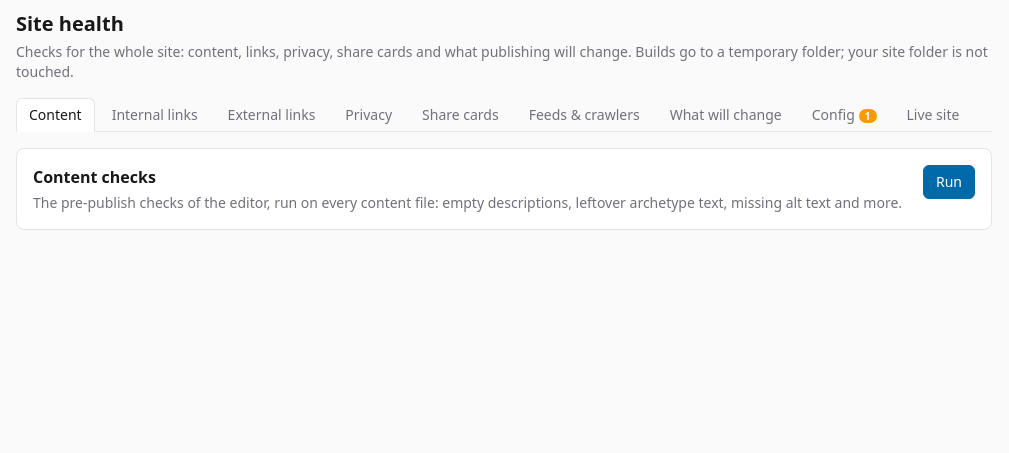
Test case: HealthView › reports broken internal links and missing anchors with their lines
Click the tab "Internal links". click: (155, 115)
box: [99, 98, 211, 132]
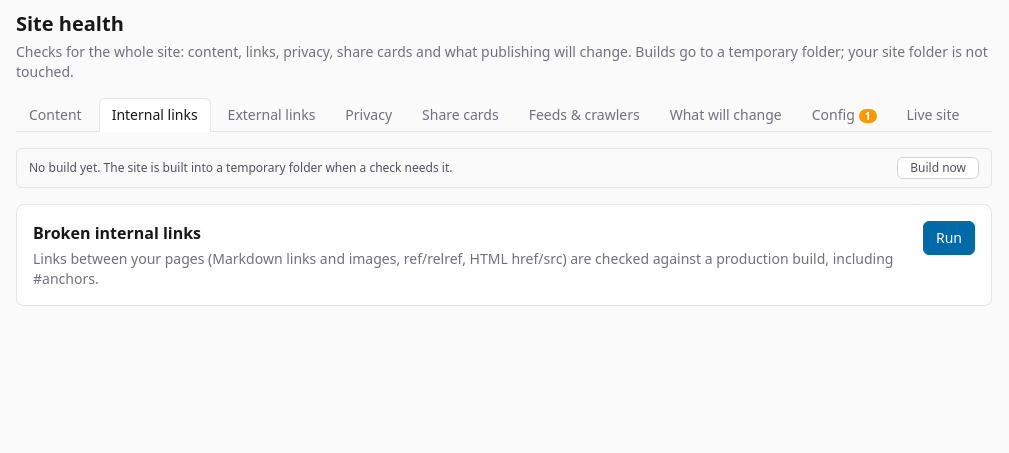
Click the button "Run". click: (949, 238)
box: [923, 221, 975, 255]
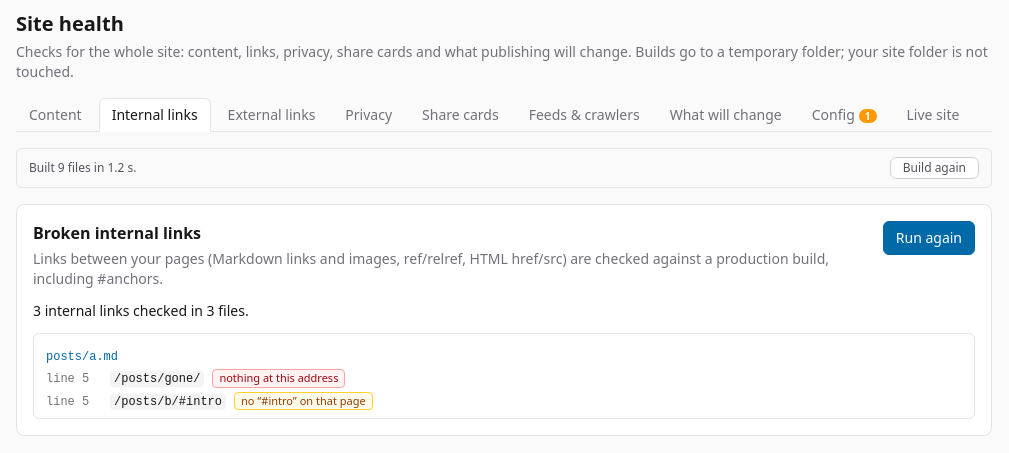
expect the panel shows "3 internal links checked in 3 files.": met, box [33, 301, 249, 320]
expect the panel shows "/posts/gone/": met, box [114, 372, 200, 386]
expect the panel shows "nothing at this address": met, box [219, 370, 338, 385]
